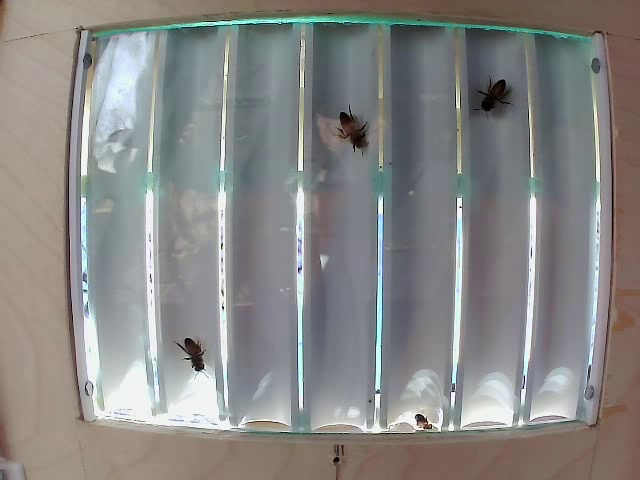bee: (333, 94, 377, 163), (174, 327, 216, 378), (481, 64, 510, 127)
